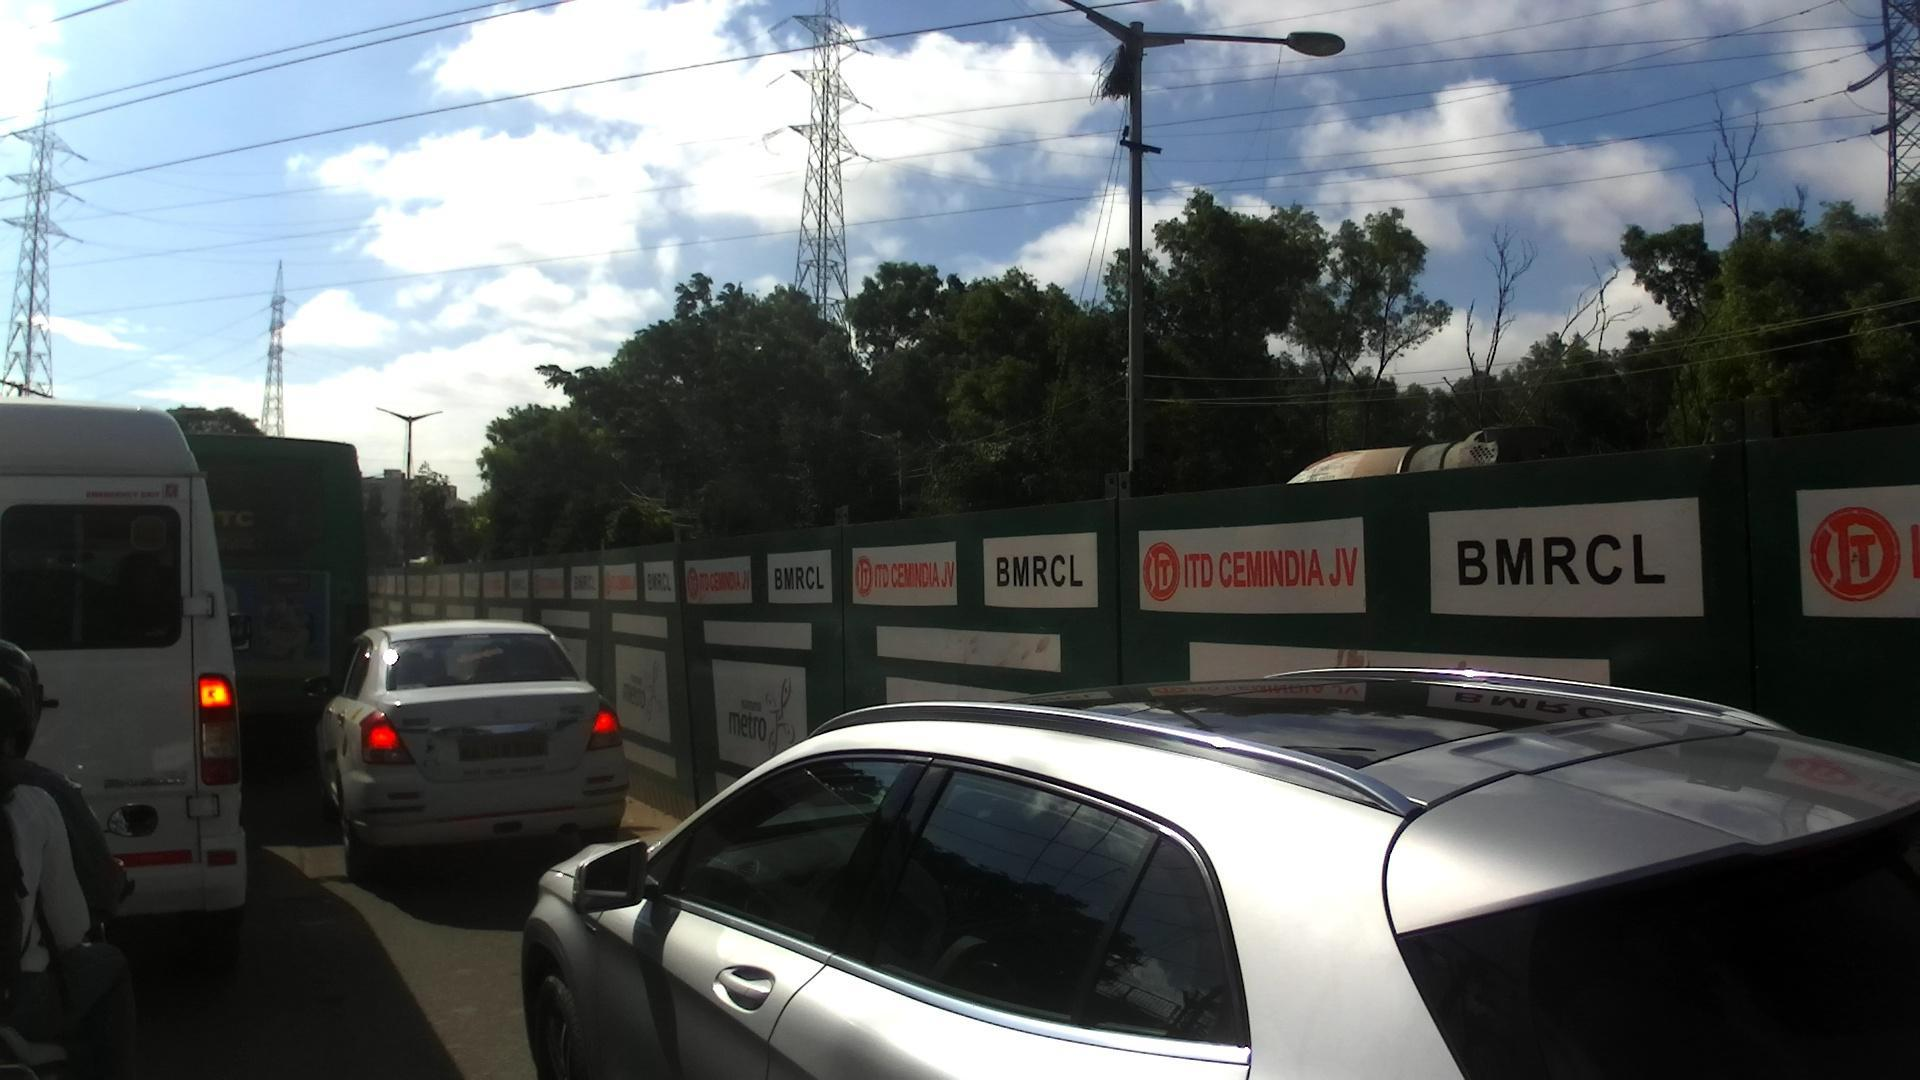off: (50, 0, 1920, 1080), (0, 579, 30, 603)
